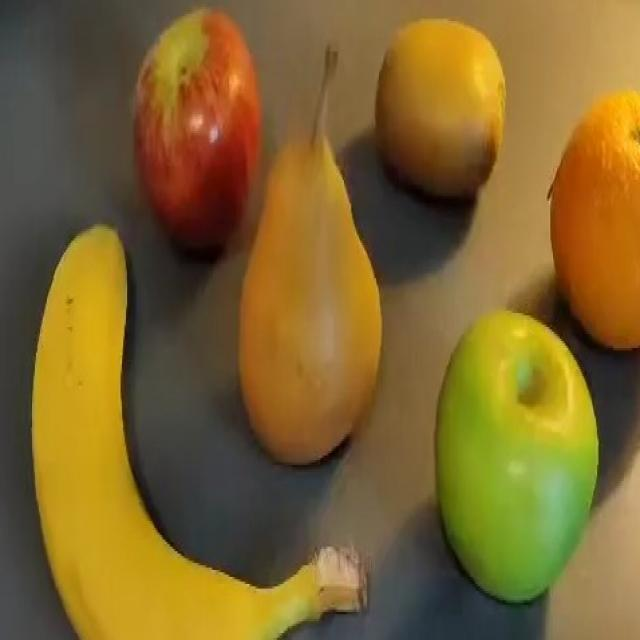Apple: (433, 308, 600, 604), (131, 6, 263, 260)
Banana: (29, 222, 369, 638)
Orange: (546, 88, 639, 351)
